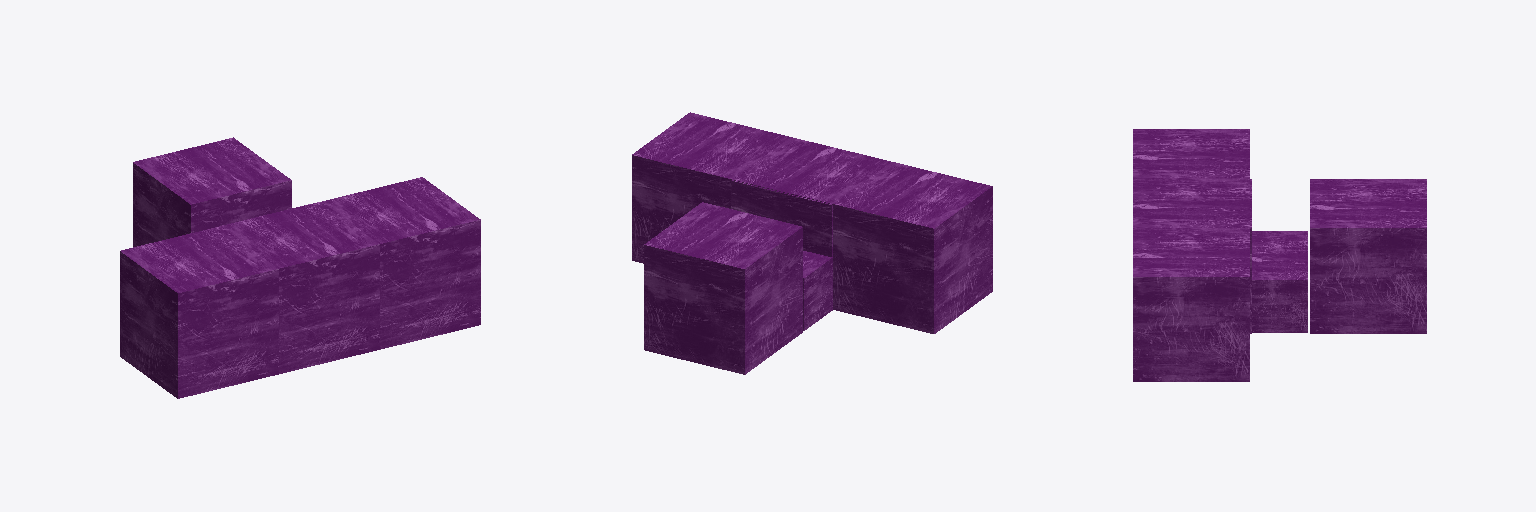
3 renders of one model, left to right at view 1: azimuth 30°, elevation 25°; view 2: azimuth 150°, elevation 25°; view 3: azimuth 270°, elevation 25°, orthographic.
Visible parts, largest first — view 1: Cube.004, Cube, Cube.003, Cube.002; view 2: Cube.004, Cube.002, Cube.003, Cube, Cube.001, Cube.005; view 3: Cube.002, Cube.003, Cube, Cube.004, Cube.005.
Boxes of the visible parts, <box> form: Cube.004: <box>120,226,278,398</box>; Cube: <box>221,202,379,373</box>; Cube.003: <box>322,177,480,349</box>; Cube.002: <box>133,137,291,246</box>; Cube.004: <box>833,162,992,333</box>; Cube.002: <box>644,202,802,374</box>; Cube.003: <box>632,112,789,263</box>; Cube: <box>733,137,890,204</box>; Cube.001: <box>731,180,832,256</box>; Cube.005: <box>803,251,832,330</box>; Cube.002: <box>1310,179,1426,333</box>; Cube.003: <box>1133,228,1249,381</box>; Cube: <box>1133,178,1249,227</box>; Cube.004: <box>1133,129,1249,177</box>; Cube.005: <box>1252,231,1307,332</box>.
Size of the model in its own units: 6 by 2.01 by 5.03.
Materials: 1 (1 with a texture image).